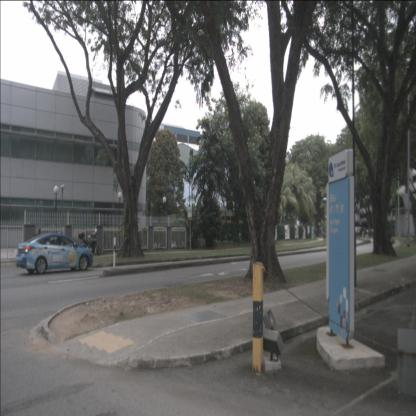vehicle-car: (16, 233, 93, 275), (355, 227, 367, 237)
vehicle-motorcycle: (78, 229, 101, 257)
